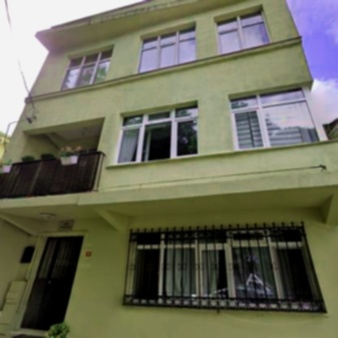door: (22, 237, 82, 330)
